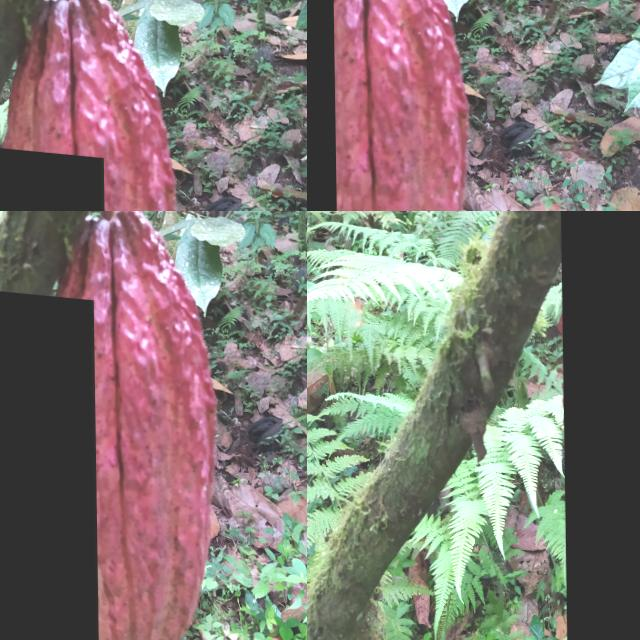Sana: (0, 277, 98, 640), (559, 211, 640, 640)
